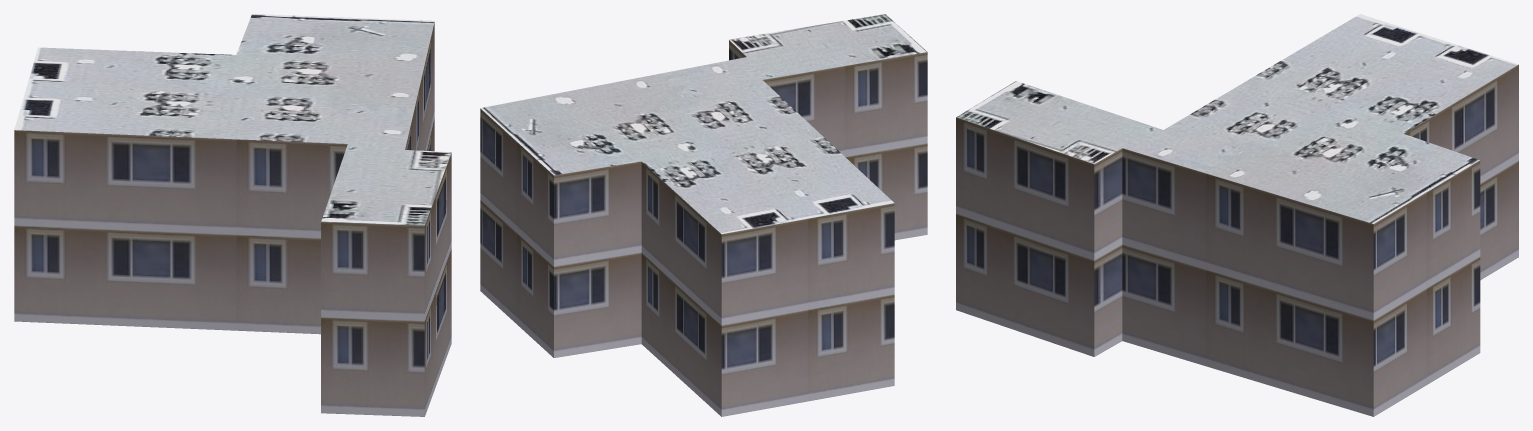
The model's file is ResTex__243.fbx.
The picture shows the model from 3 angles, left to right: view 1: azimuth 30°, elevation 25°; view 2: azimuth 150°, elevation 25°; view 3: azimuth 270°, elevation 25°; orthographic projection. The views are drawn at different scales.
Visible parts, largest first — view 1: CityEngineMaterial_21_m, CityEngineMaterial_8_m; view 2: CityEngineMaterial_21_m, CityEngineMaterial_8_m; view 3: CityEngineMaterial_21_m, CityEngineMaterial_8_m.
Boxes of the visible parts, box(x1,y1,x2,y2) form: CityEngineMaterial_21_m: box(14, 22, 451, 416); CityEngineMaterial_8_m: box(14, 14, 451, 225); CityEngineMaterial_21_m: box(480, 40, 927, 416); CityEngineMaterial_8_m: box(480, 14, 927, 233); CityEngineMaterial_21_m: box(956, 64, 1518, 416); CityEngineMaterial_8_m: box(956, 14, 1518, 223).
Bounding box in the file's own units: 14.02 × 6 × 15.86.
Materials: 2 (2 with a texture image).
